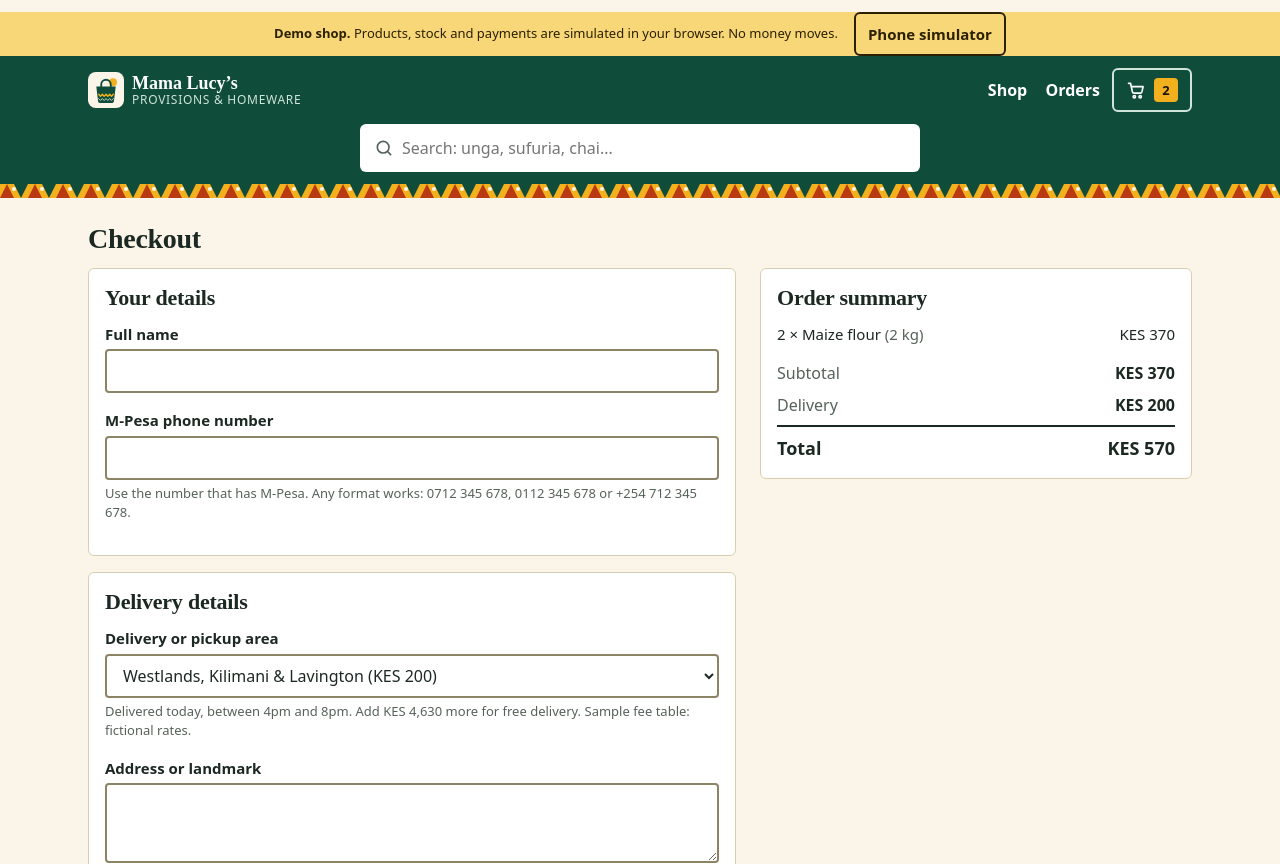
Test: checkout form › normalises the phone number live
The width and height of the screenshot is (1280, 864).
expect the heading "Checkout" is shown: met, box [88,223,201,254]
Type "+254 712 345" into the field labelled "M-Pesa phone number" at (412, 458), box [105,436,719,480]
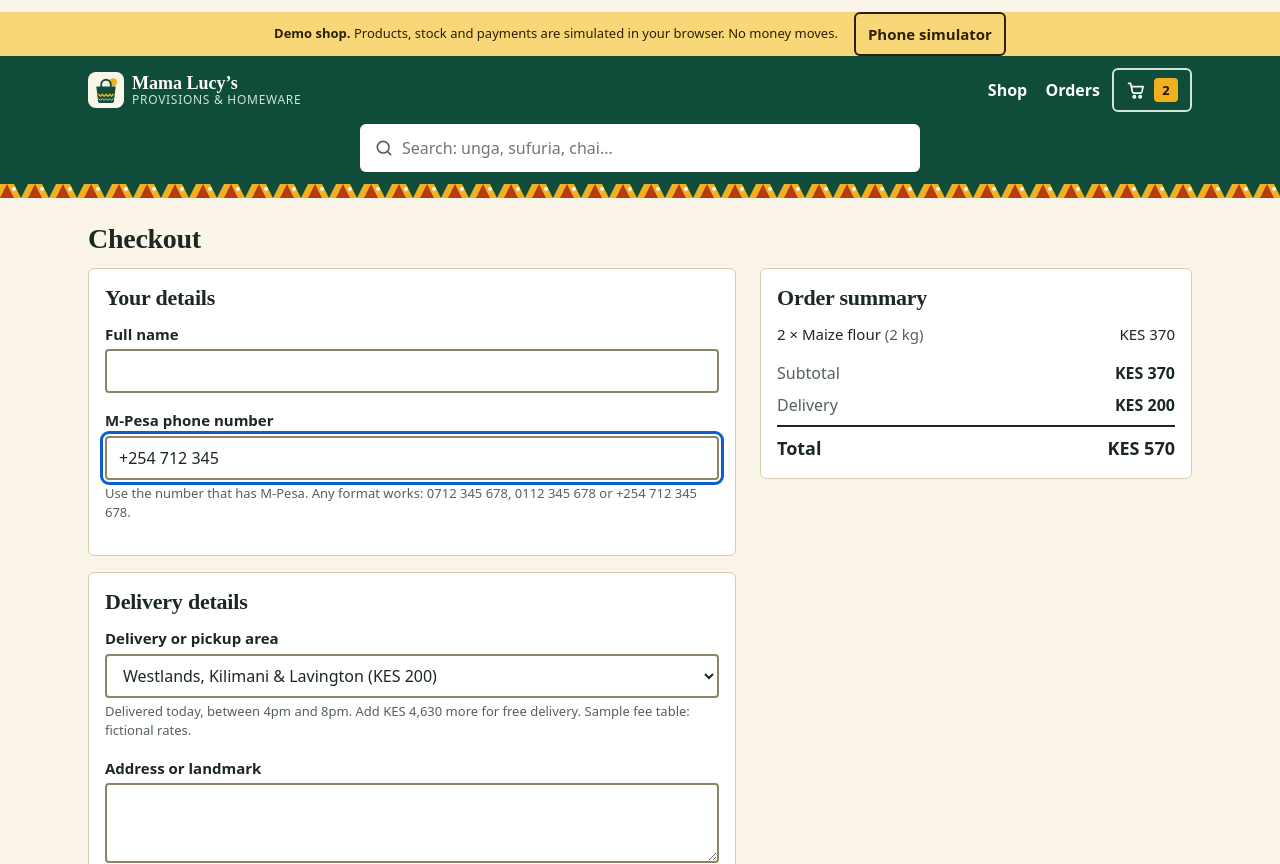
Press Tab
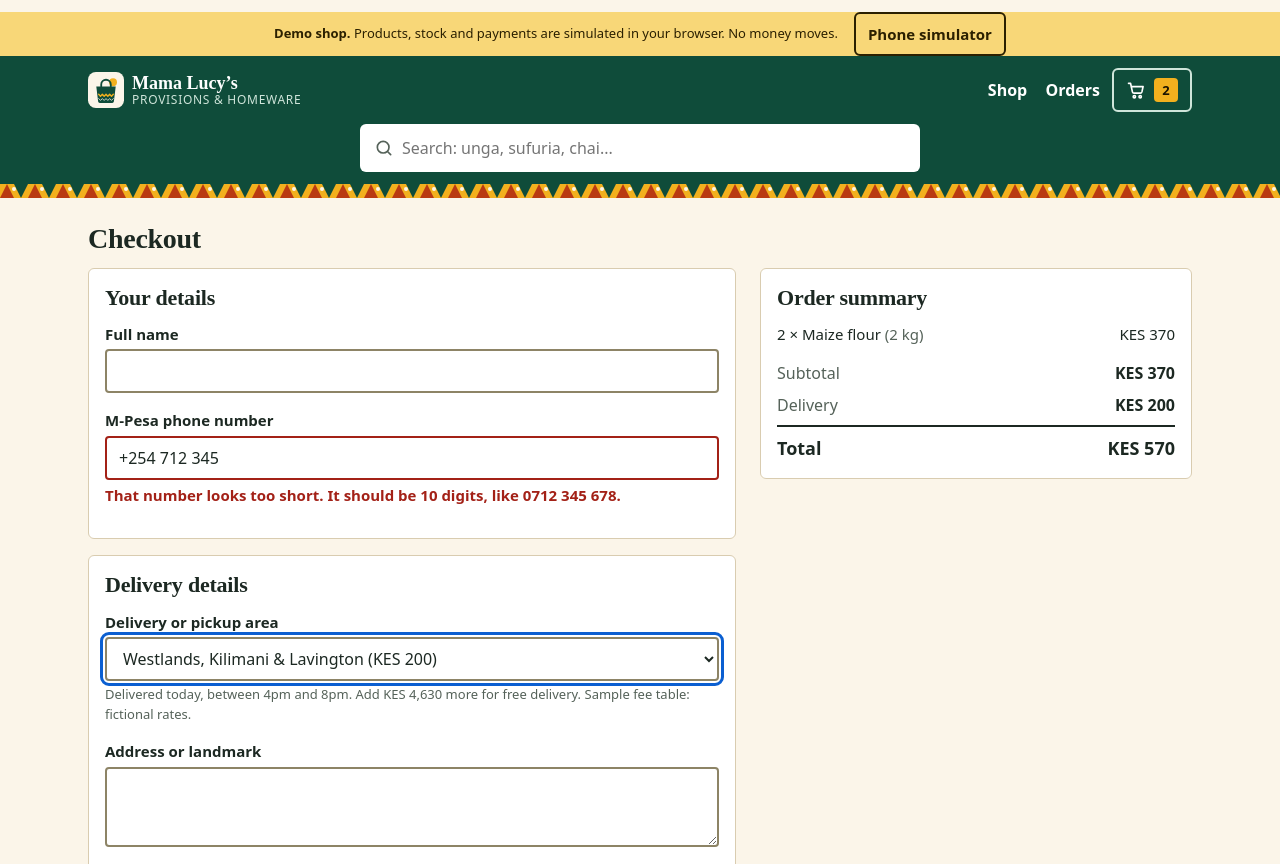
expect the text "too short" is shown: met, box [105,485,621,505]
Type " 678" into the field labelled "M-Pesa phone number" at (412, 458), box [105,436,719,480]
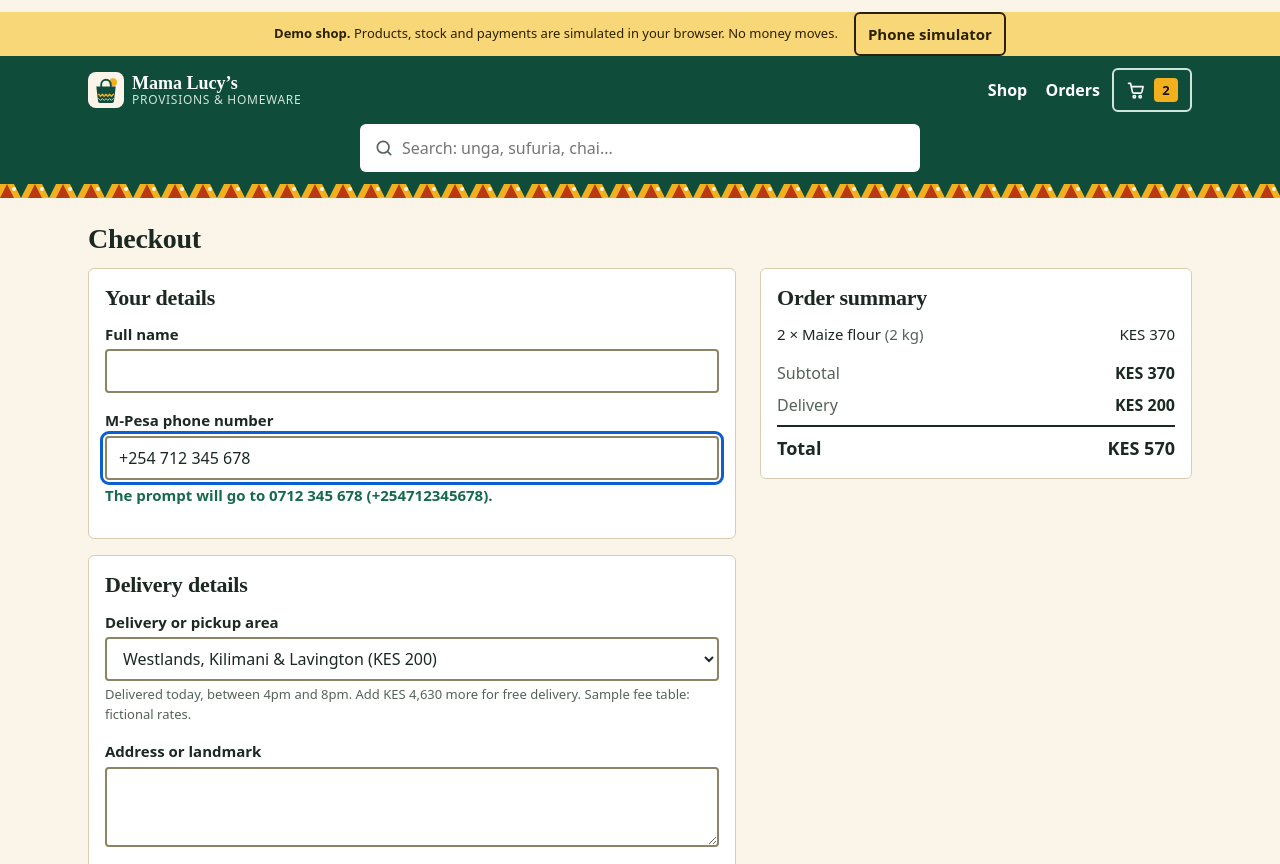
expect the text "The prompt will go to 0712 345 678 (+254712345678)." is shown: met, box [105,485,493,505]
Replace the text in the field labelled "M-Pesa phone number" with "0212345678" at (412, 458), box [105,436,719,480]
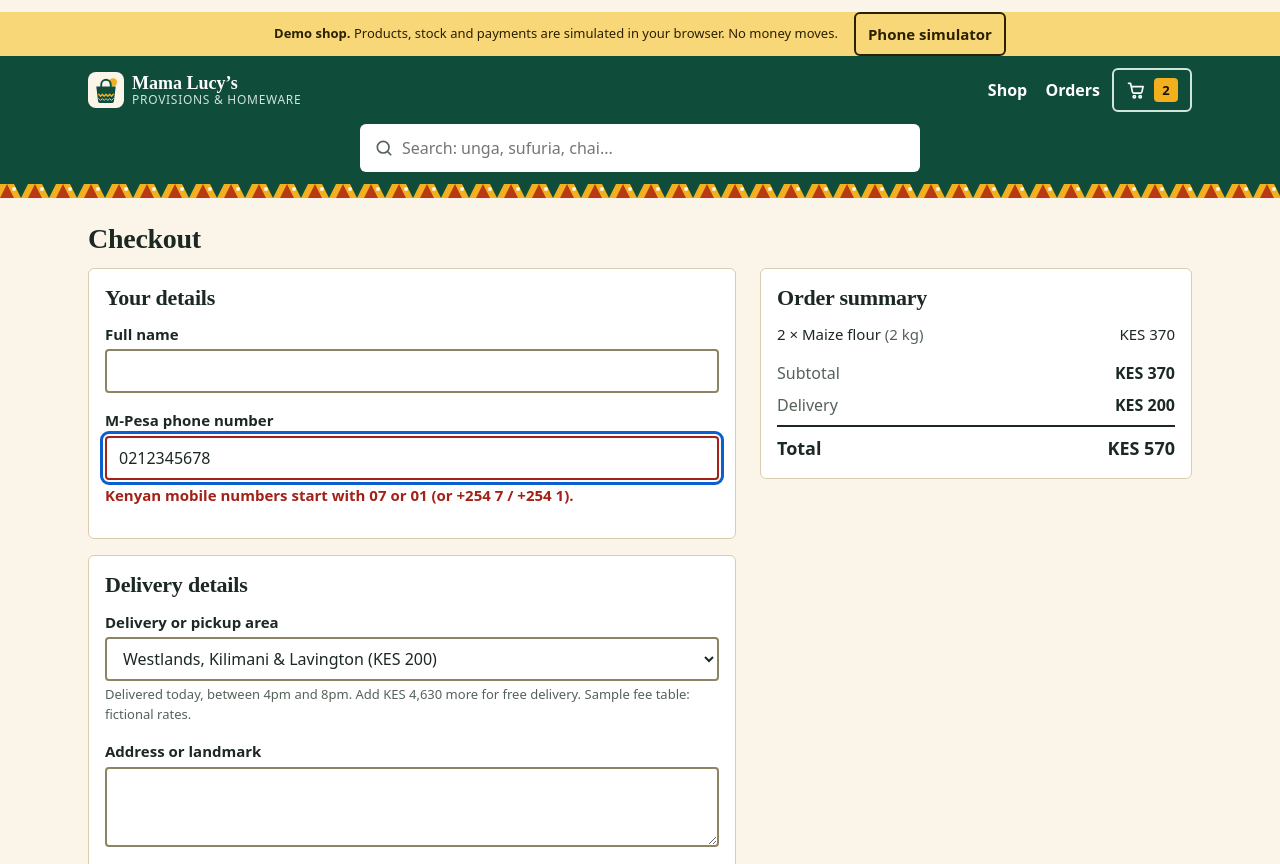
expect the text "start with 07 or 01" is shown: met, box [105,485,574,505]
